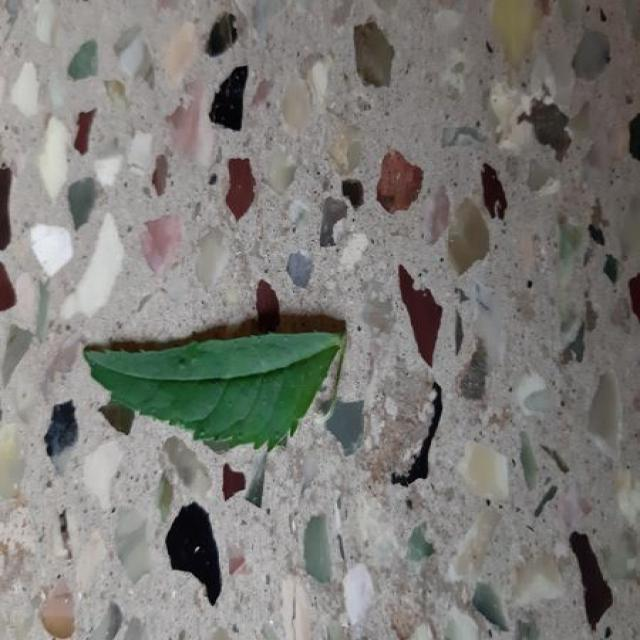marigold: (85, 320, 343, 450)
